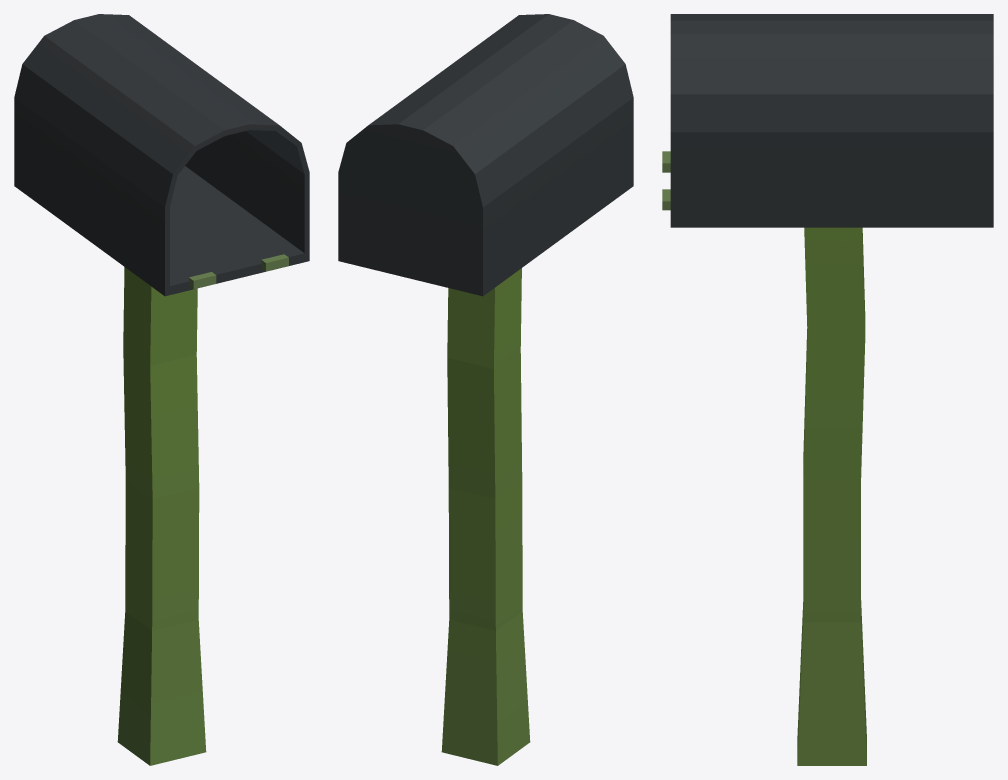
File: Mailbox_01.fbx
3 renders of one model, left to right at view 1: azimuth 30°, elevation 25°; view 2: azimuth 150°, elevation 25°; view 3: azimuth 270°, elevation 25°, orthographic. The views are drawn at different scales.
Visible parts, largest first — view 1: Mailbox_01; view 2: Mailbox_01; view 3: Mailbox_01.
Boxes of the visible parts, left/top/right/bottom form: Mailbox_01: left=14, top=14, right=309, bottom=765; Mailbox_01: left=338, top=14, right=633, bottom=765; Mailbox_01: left=662, top=14, right=993, bottom=765.
Bounding box in the file's own units: 0.2398 × 1.07 × 0.4434.
